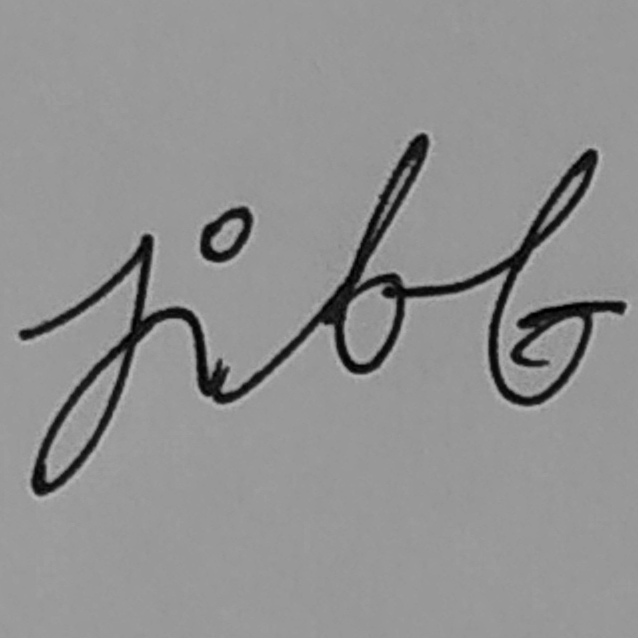b: (480, 143, 605, 412), (322, 128, 432, 378)
i: (175, 201, 263, 409)
j: (14, 228, 159, 499)
